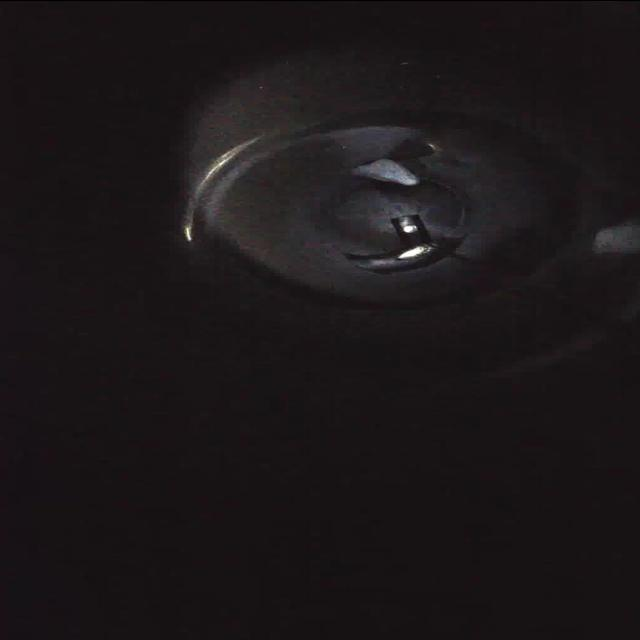impurity: (347, 154, 417, 190)
